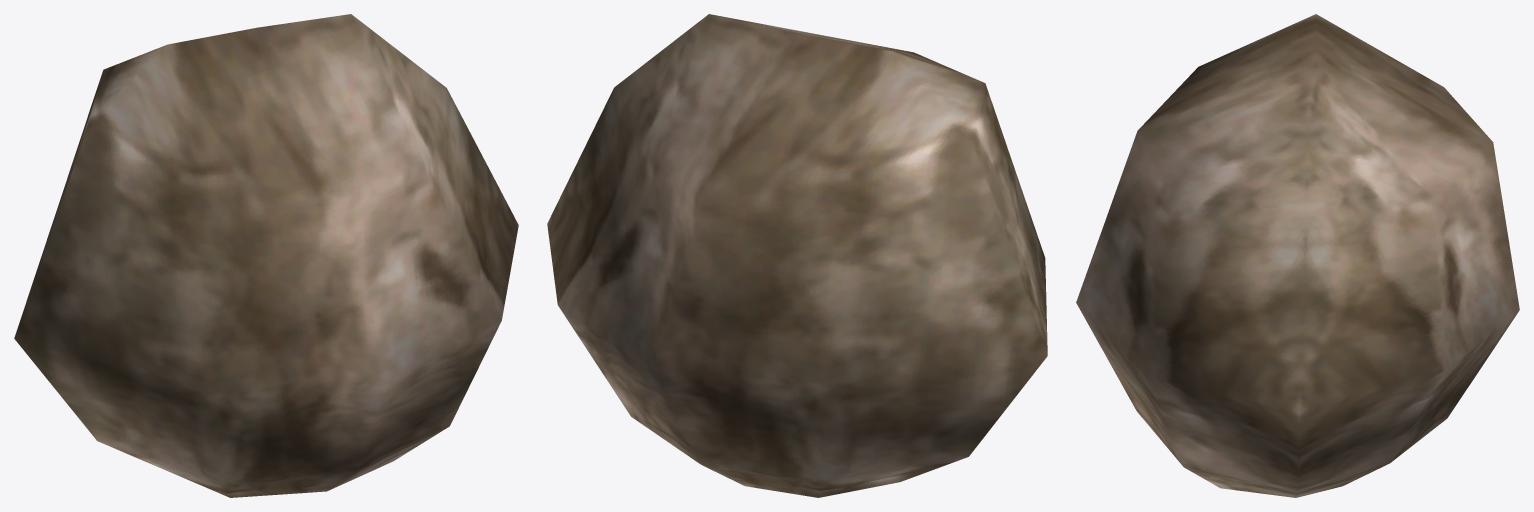
File: OVERHILL_A_01_ROCK96.fbx
3 renders of one model, left to right at view 1: azimuth 30°, elevation 25°; view 2: azimuth 150°, elevation 25°; view 3: azimuth 270°, elevation 25°, orthographic. The views are drawn at different scales.
Parts seen in each view (by area): view 1: OVERHILL_A_01_ROCK96; view 2: OVERHILL_A_01_ROCK96; view 3: OVERHILL_A_01_ROCK96.
Part boxes in pixels (box(x1,y1,x2,y2)): OVERHILL_A_01_ROCK96: box(14, 14, 518, 497); OVERHILL_A_01_ROCK96: box(547, 14, 1047, 497); OVERHILL_A_01_ROCK96: box(1076, 14, 1519, 497).
Size of the model in its own units: 14600 by 11903 by 12132.
Materials: 1 (1 with a texture image).
